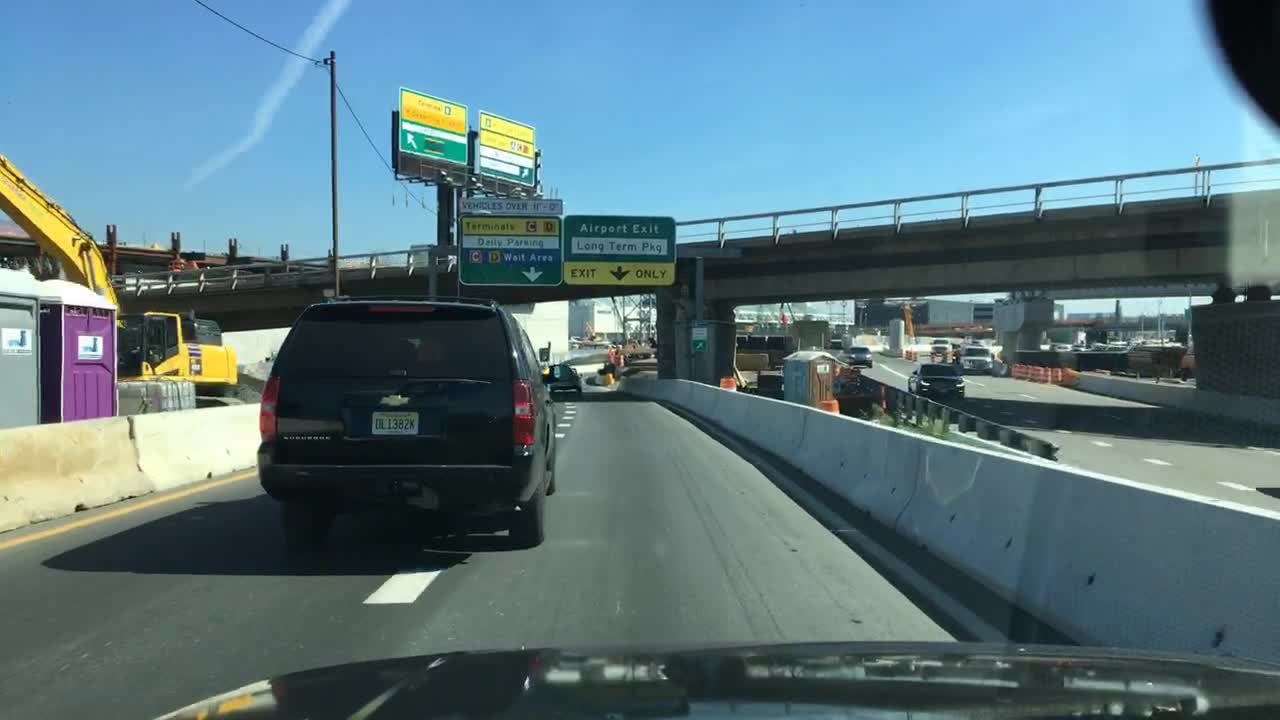car: (256, 295, 558, 550), (0, 150, 235, 425), (907, 364, 964, 404), (832, 373, 875, 413), (540, 361, 584, 397), (743, 373, 786, 400), (958, 344, 991, 373), (1178, 349, 1198, 382), (848, 345, 875, 367), (930, 336, 950, 352), (1107, 338, 1129, 350), (1091, 339, 1110, 350), (1048, 342, 1071, 350), (1069, 342, 1091, 350), (1133, 333, 1150, 342), (1152, 335, 1172, 342)
traffic sign: (456, 197, 561, 286), (563, 214, 676, 286), (397, 87, 468, 167), (477, 110, 535, 186), (690, 326, 708, 352), (537, 344, 554, 362), (1179, 309, 1198, 318)
